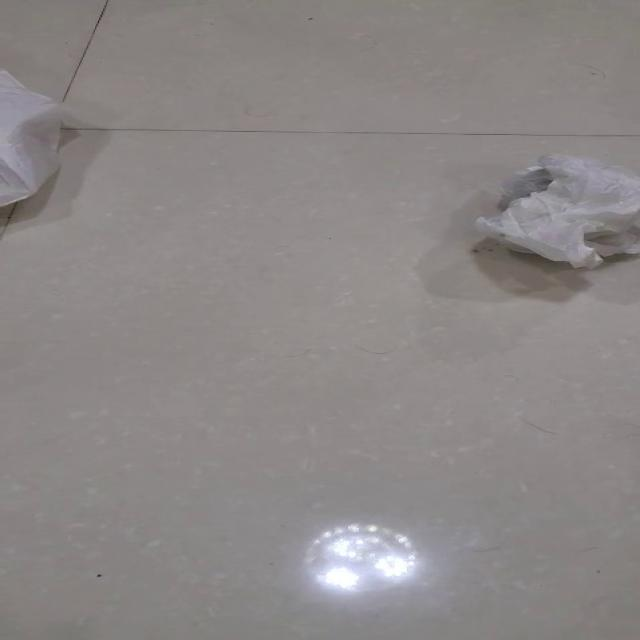plastic: (474, 152, 639, 270), (0, 68, 63, 207)
